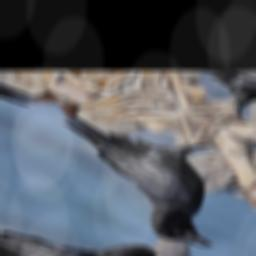Crow: (6, 86, 256, 256)
